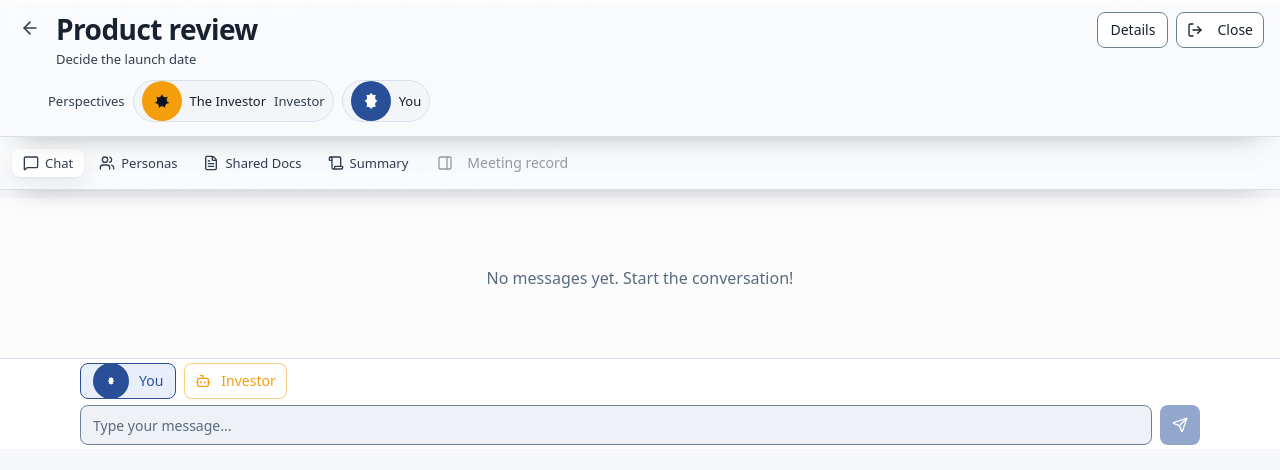
Test case: MeetingRoom › gives a deliberately identical new message a new identity
Type "Same words" into the field with placeholder "Type your message..." at (616, 425), box [80, 405, 1152, 445]
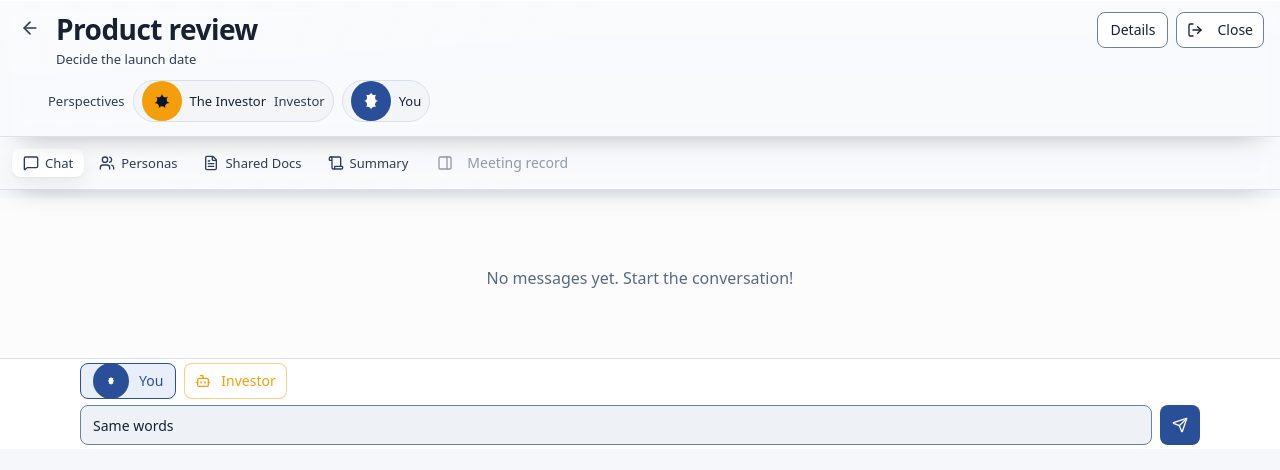
Click the button named "Send message" at (1180, 425), box [1160, 405, 1200, 445]
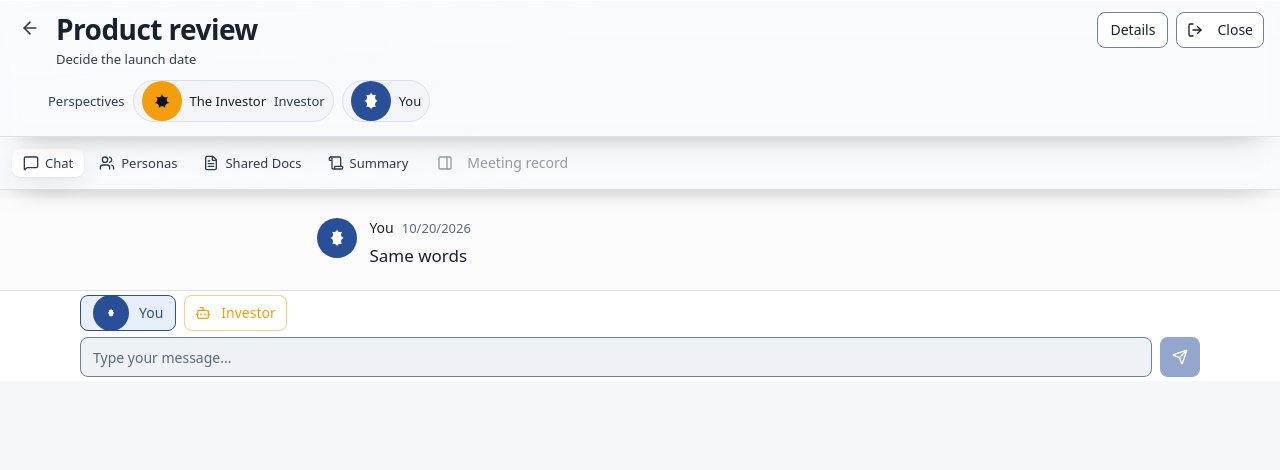
Result: the field with placeholder "Type your message..." is empty
Type "Same words" into the field with placeholder "Type your message..." at (616, 357), box [80, 337, 1152, 377]
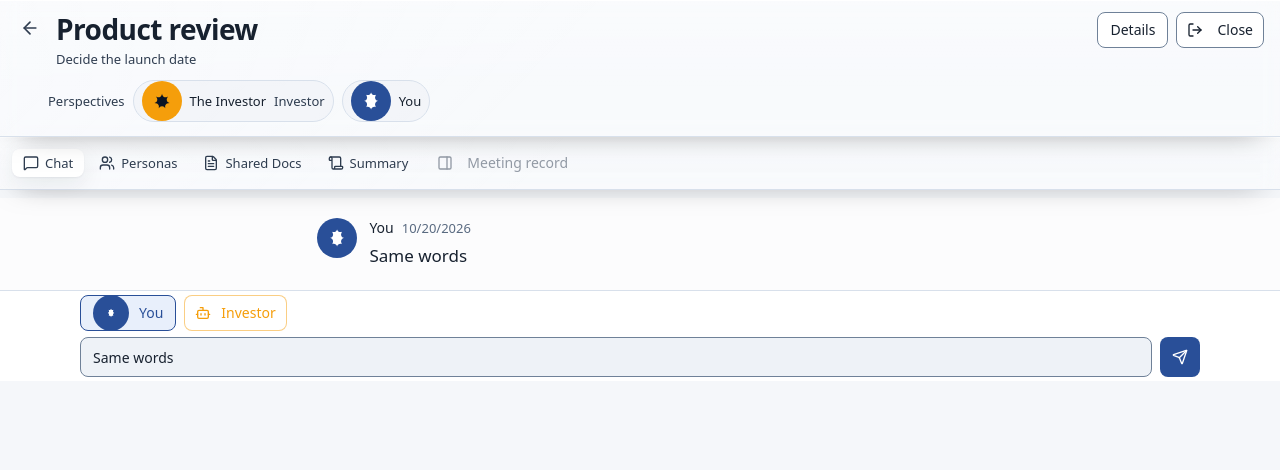
Click the button named "Send message" at (1180, 357), box [1160, 337, 1200, 377]
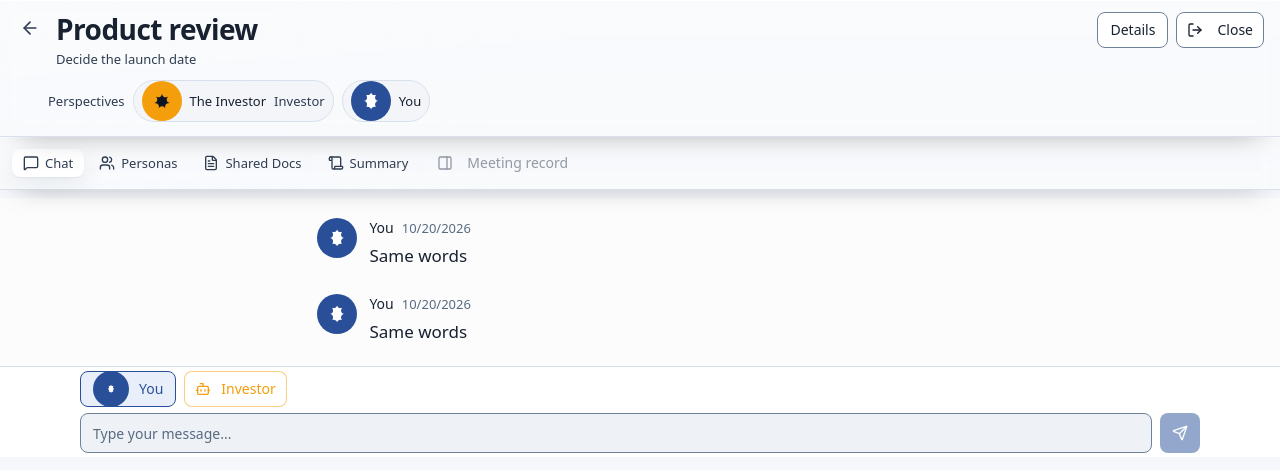
Result: the text "Same words" is shown 2 times at [369, 244, 467, 267]; [369, 320, 467, 343]
